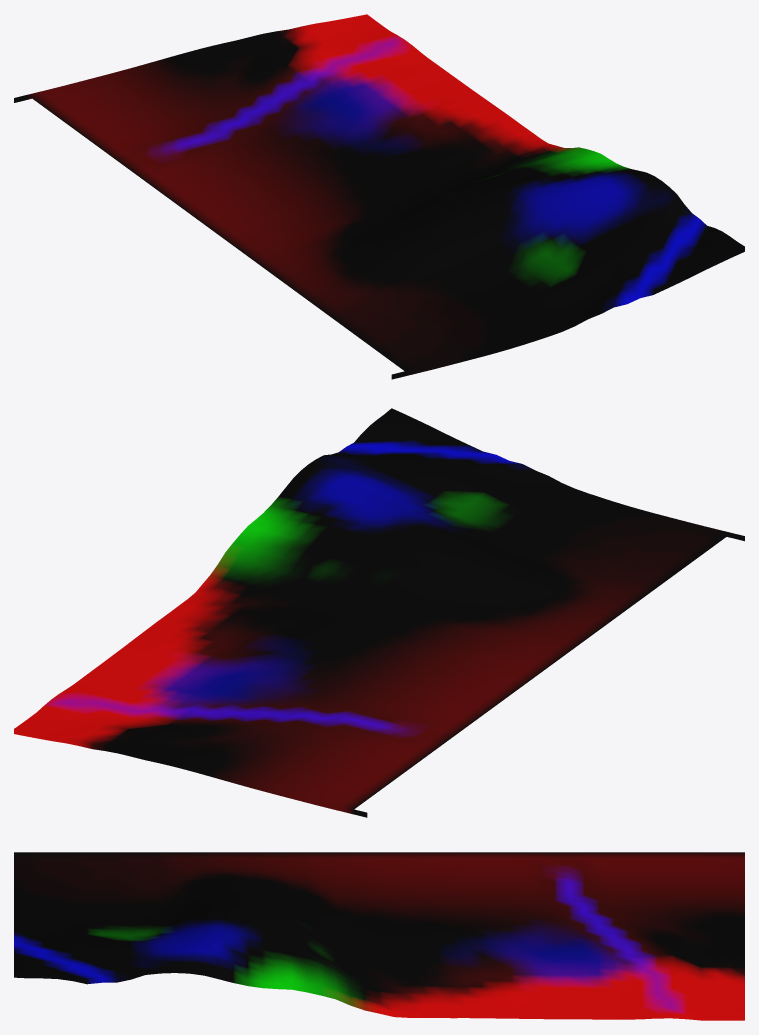
Rendered from coast_13_11.glb.
The picture shows the model from 3 angles, top to bottom: view 1: azimuth 30°, elevation 25°; view 2: azimuth 150°, elevation 25°; view 3: azimuth 270°, elevation 25°; orthographic projection. The views are drawn at different scales.
Parts seen in each view (by area): view 1: terrain; view 2: terrain; view 3: terrain.
Boxes of the visible parts, x1,y1,x2,y2 form: terrain: (14, 14, 744, 379); terrain: (14, 408, 744, 817); terrain: (14, 852, 744, 1020).
Bounding box in the file's own units: 108 × 15.9 × 200.
